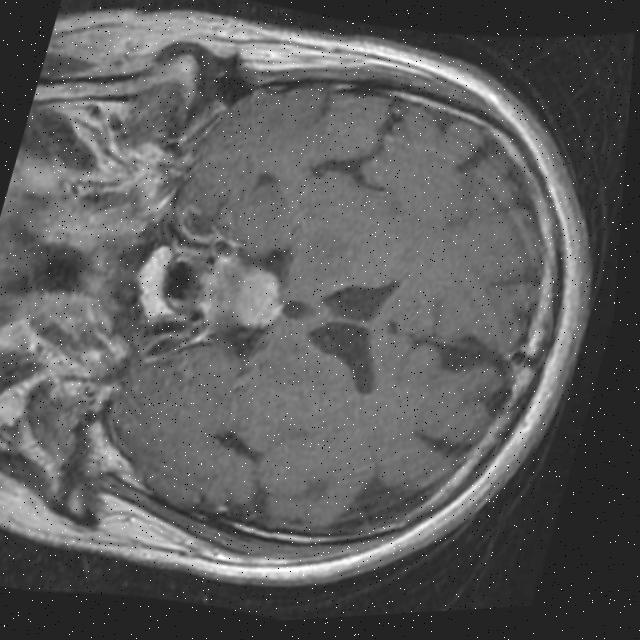Pituitary: (188, 249, 296, 344), (125, 240, 193, 324)
